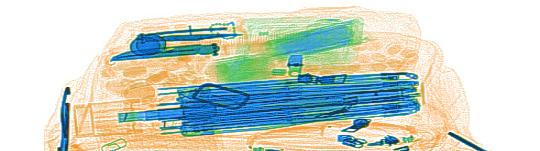knife: (106, 41, 222, 60), (136, 25, 243, 44)
